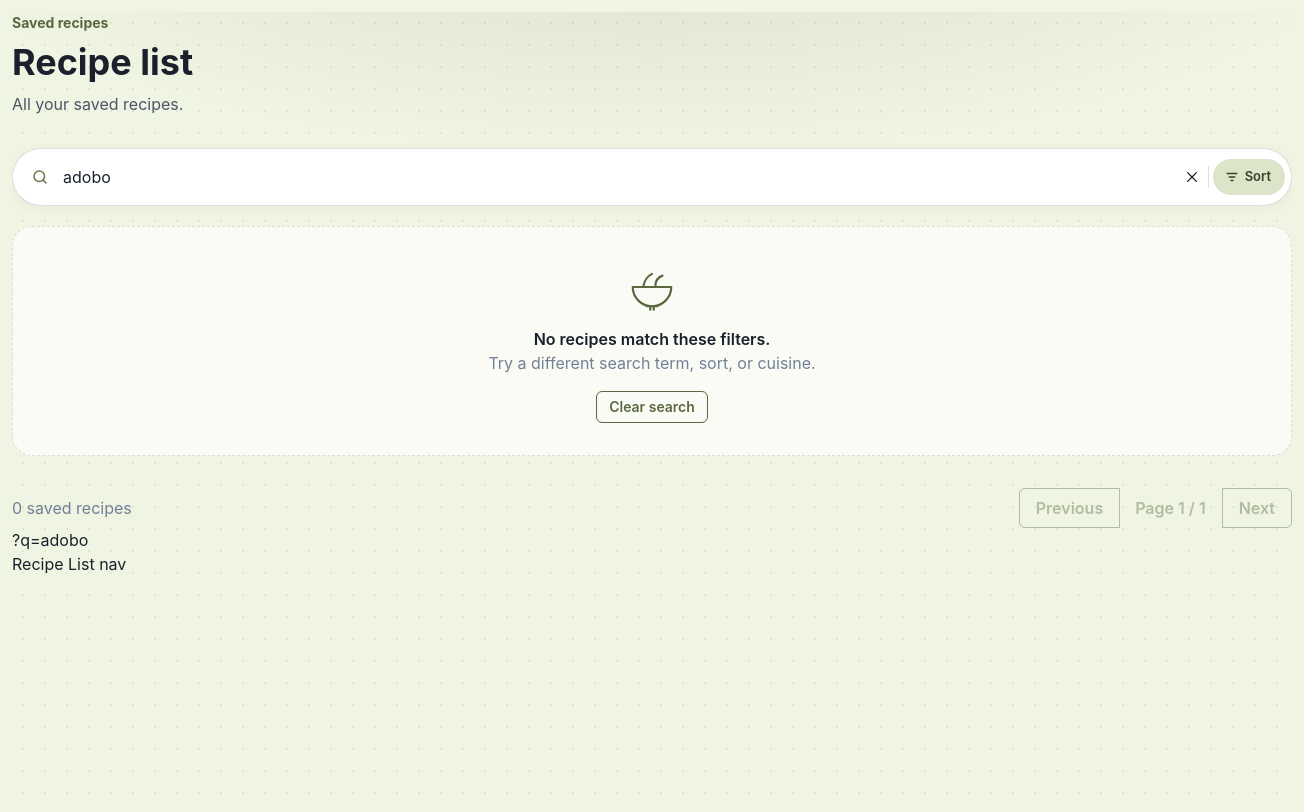
Test: RecipeListPage › resyncs the search input when navigation strips q from the URL
This screenshot has width=1304, height=812.
expect the field showing "adobo" is shown: met, box [49,155,1180,199]
Click the link "Recipe List nav".
click(69, 564)  # box [12,554,126,574]
Wait 300 ms
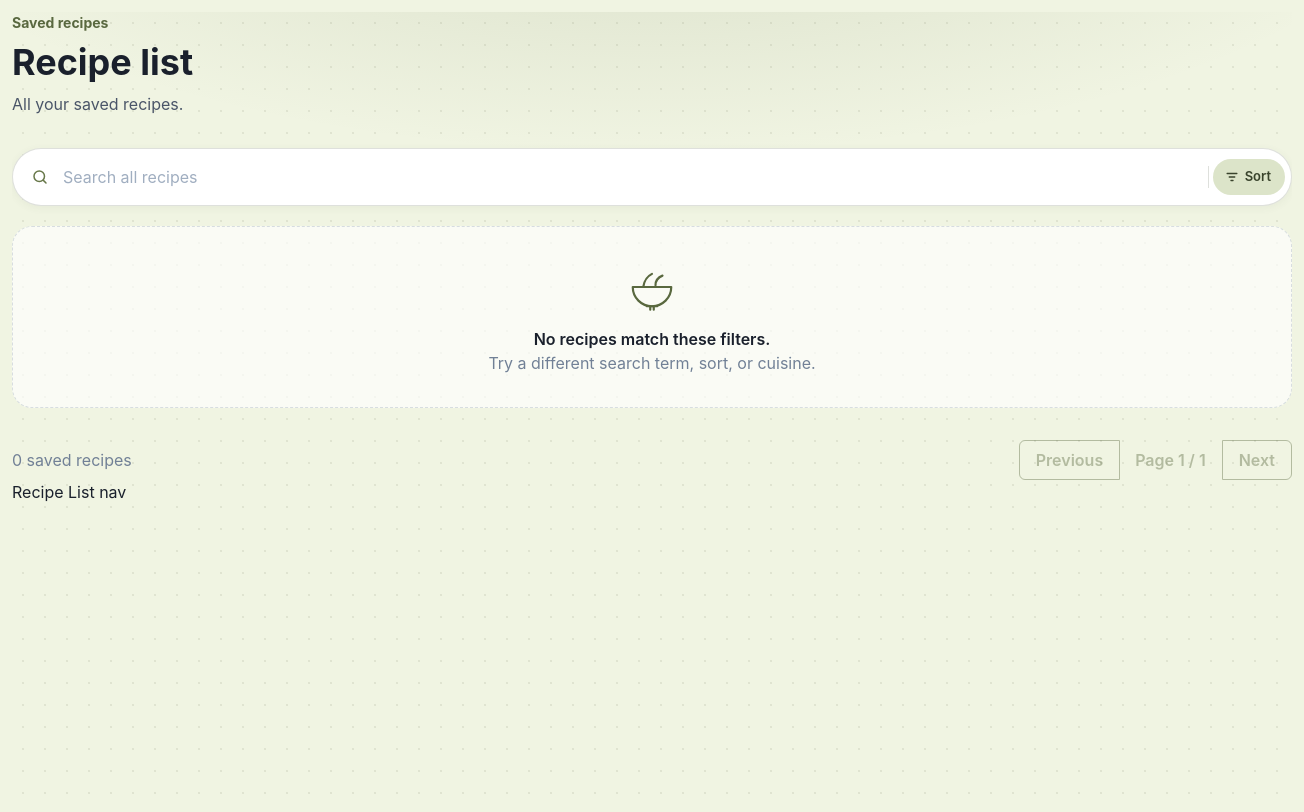
expect the text showing "adobo" is gone: met
